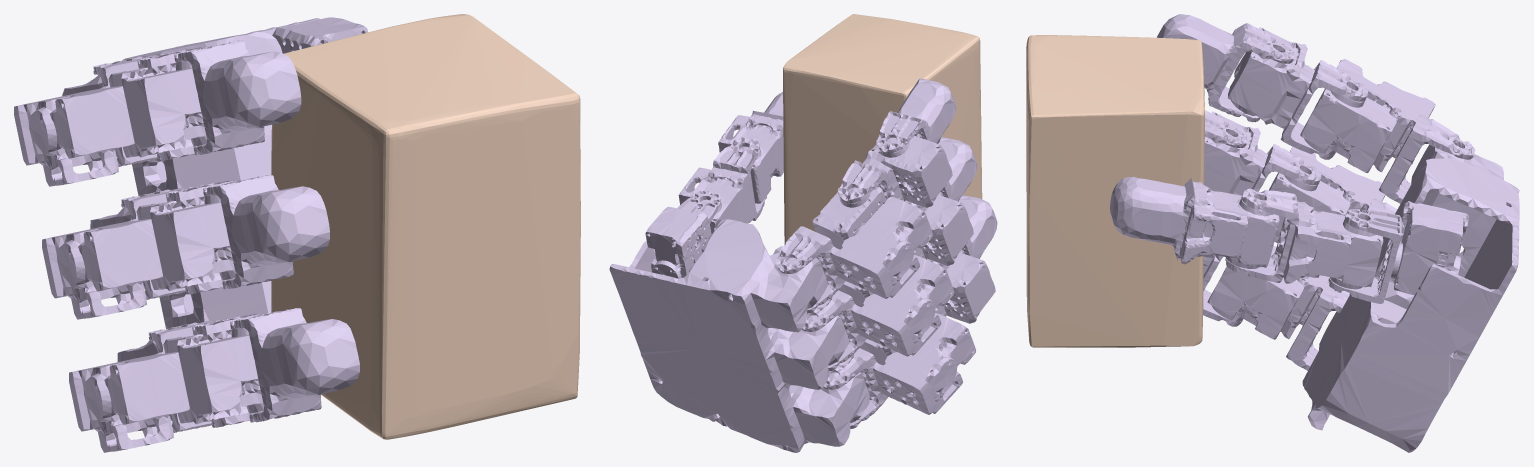
3 renders of one model, left to right at view 1: azimuth 30°, elevation 25°; view 2: azimuth 150°, elevation 25°; view 3: azimuth 270°, elevation 25°, orthographic. The views are drawn at different scales.
Visible parts, largest first — view 1: world, LEAP_hand; view 2: LEAP_hand, world; view 3: LEAP_hand, world.
Boxes of the visible parts, left/top/right/bottom form: world: left=271, top=14, right=580, bottom=439; LEAP_hand: left=14, top=17, right=367, bottom=452; LEAP_hand: left=609, top=78, right=997, bottom=452; world: left=783, top=14, right=982, bottom=244; LEAP_hand: left=1110, top=14, right=1519, bottom=452; world: left=1026, top=35, right=1204, bottom=347.
Bounding box in the file's own units: 0.1504 × 0.1787 × 0.2152.
